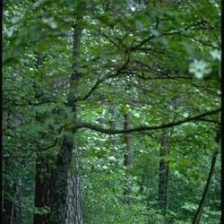neutral: (5, 3, 221, 224)
